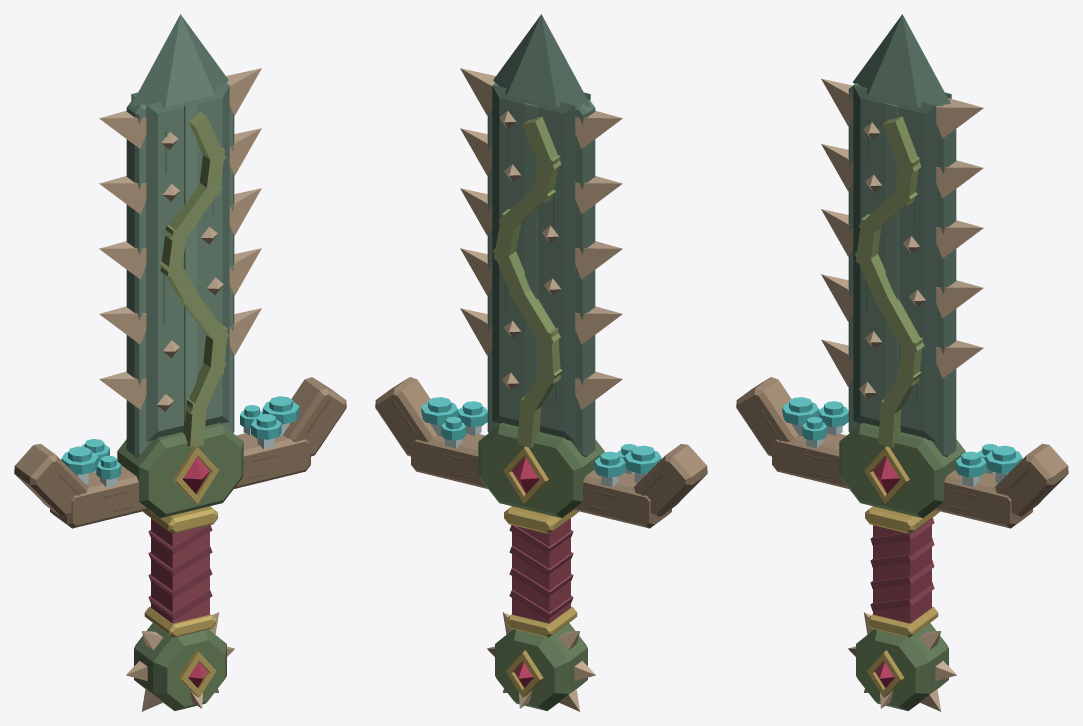
File: thorn_blade_roblox.glb
The picture shows the model from 3 angles, left to right: view 1: azimuth 30°, elevation 25°; view 2: azimuth 150°, elevation 25°; view 3: azimuth 330°, elevation 25°; orthographic projection.
Visible parts, largest first — view 1: Blade, Gems; view 2: Blade, Gems; view 3: Blade, Gems.
Boxes of the visible parts, box(x1,y1,x2,y2) form: Blade: box(14, 14, 346, 711); Gems: box(173, 446, 218, 697); Blade: box(375, 14, 707, 711); Gems: box(503, 446, 548, 697); Blade: box(736, 14, 1068, 711); Gems: box(864, 446, 909, 697).
Size of the model in its own units: 0.6362 by 1.32 by 0.16.
